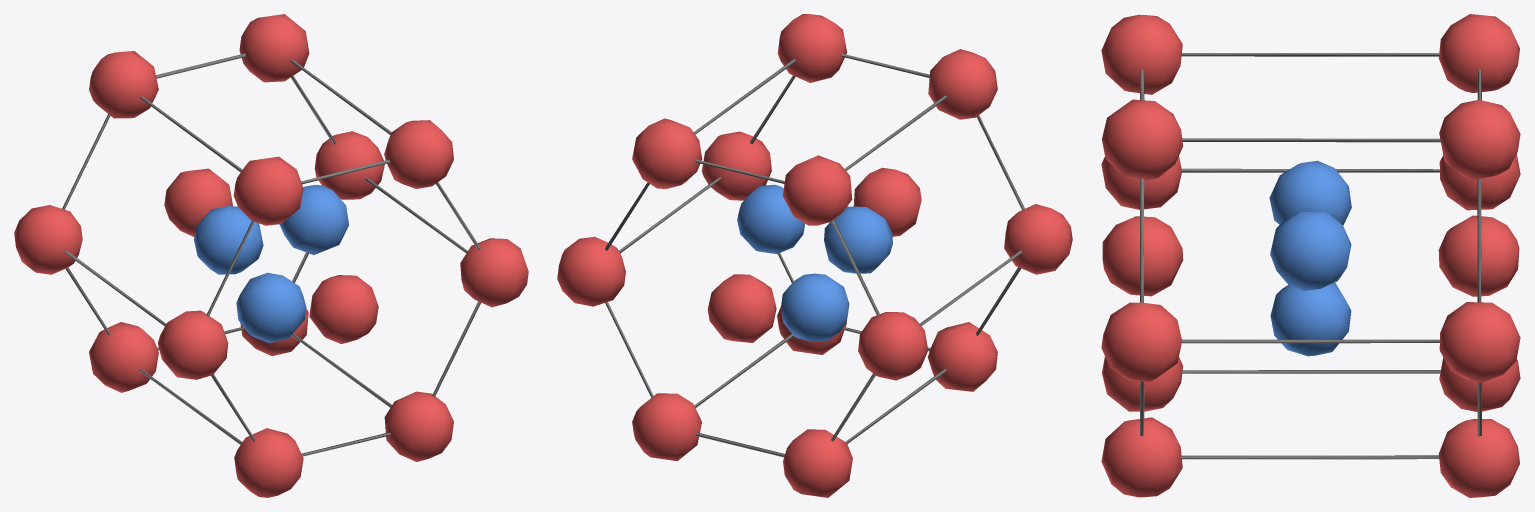
The model's file is hcp_schematic.glb.
3 renders of one model, left to right at view 1: azimuth 30°, elevation 25°; view 2: azimuth 150°, elevation 25°; view 3: azimuth 270°, elevation 25°, orthographic. The views are drawn at different scales.
Parts seen in each view (by area): view 1: atom_16, atom_3, atom_5, atom_2, atom_12, atom_1, atom_9, atom_7, atom_4, atom_0, atom_10, atom_8 (+5 smaller); view 2: atom_9, atom_16, atom_10, atom_6, atom_7, atom_2, atom_8, atom_13, atom_3, atom_11, atom_4, atom_1 (+5 smaller); view 3: atom_6, atom_1, atom_7, atom_0, atom_11, atom_5, atom_14, atom_2, atom_8, atom_13, atom_12, atom_16 (+13 smaller).
Part boxes in pixels (x1,y1,x2,y2): atom_16: (236,272,306,342); atom_3: (158,310,228,379); atom_5: (384,391,453,461); atom_2: (233,156,303,225); atom_12: (309,275,378,343); atom_1: (384,120,453,188); atom_9: (14,205,82,274); atom_7: (239,14,309,82); atom_4: (234,428,303,497); atom_0: (460,238,528,307); atom_10: (89,322,158,392); atom_8: (89,51,158,118); atom_9: (858,312,928,380); atom_16: (781,273,849,342); atom_10: (783,429,852,497); atom_6: (557,236,625,306); atom_7: (632,118,702,188); atom_2: (928,49,997,119); atom_8: (782,155,852,225); atom_13: (707,274,776,342); atom_3: (1004,204,1072,274); atom_11: (632,393,701,461); atom_4: (928,322,997,391); atom_1: (777,14,847,82); atom_6: (1439,302,1520,383); atom_1: (1102,99,1182,180); atom_7: (1439,100,1520,179); atom_0: (1101,302,1182,382); atom_11: (1438,419,1519,497); atom_5: (1101,417,1182,497); atom_14: (1270,210,1351,290); atom_2: (1101,14,1182,94); atom_8: (1438,14,1519,92); atom_13: (1438,215,1519,296); atom_12: (1102,216,1183,296); atom_16: (1270,282,1351,356).
Bounding box in the file's own units: 14.46 × 12.82 × 12.43.
